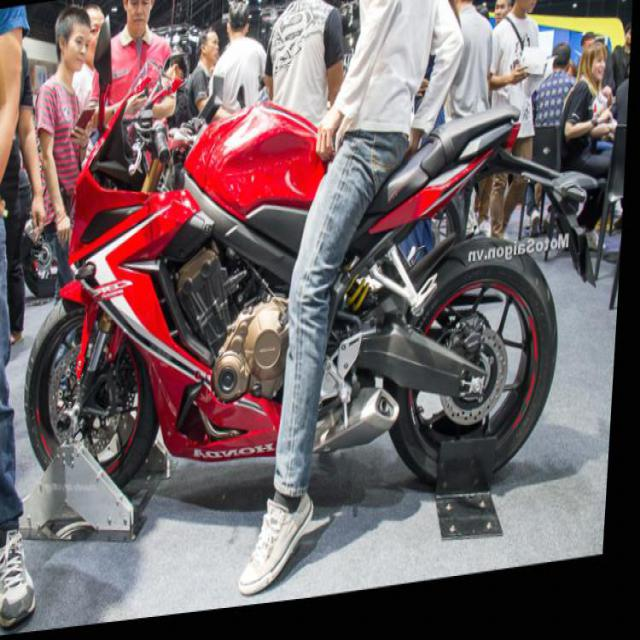CBR650R: (17, 32, 579, 561)
